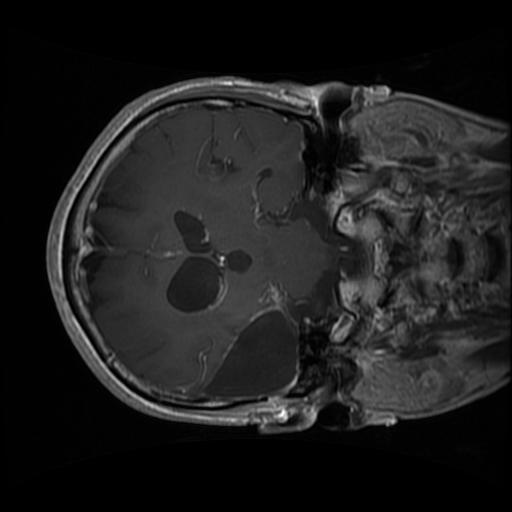glioma: (179, 284, 302, 403)
